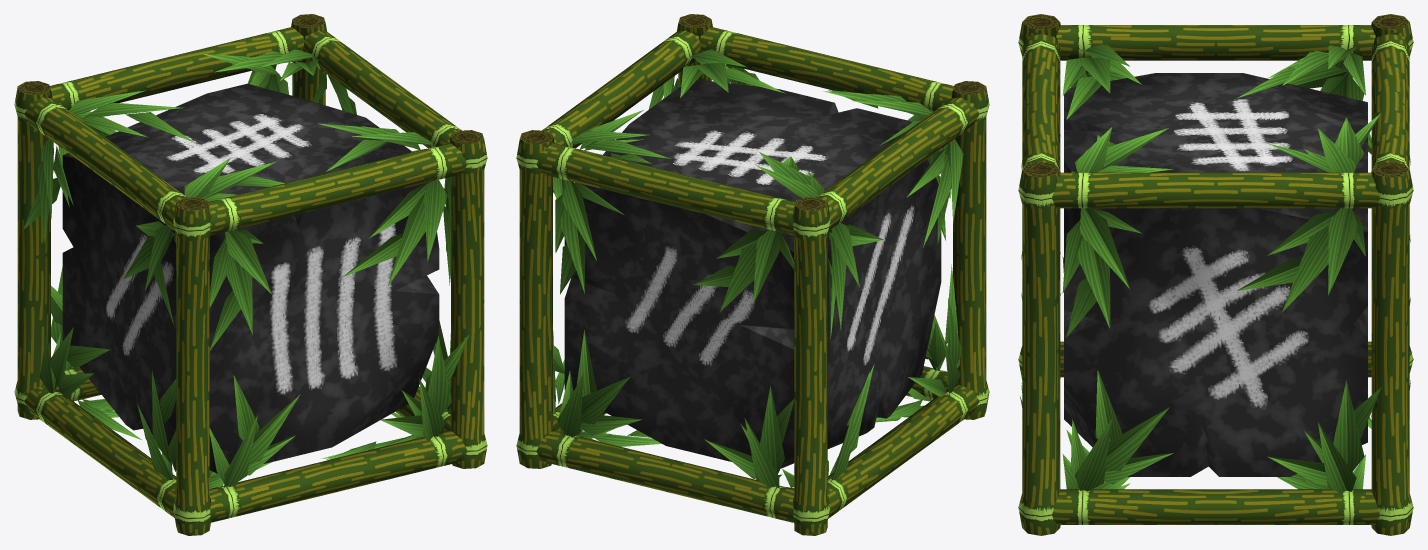
3 views of the same model, side by side, from view 1: azimuth 30°, elevation 25°; view 2: azimuth 150°, elevation 25°; view 3: azimuth 270°, elevation 25° (orthographic). The views are drawn at different scales.
Parts seen in each view (by area): view 1: D6; view 2: D6; view 3: D6.
Boxes of the visible parts, box(x1,y1,x2,y2) form: D6: box(14, 14, 487, 535); D6: box(516, 14, 989, 535); D6: box(1018, 14, 1413, 535).
Bounding box in the file's own units: 104 × 104 × 104.
Materials: 1 (1 with a texture image).
